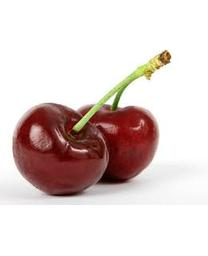cherry: (12, 103, 110, 196), (77, 101, 160, 185)
